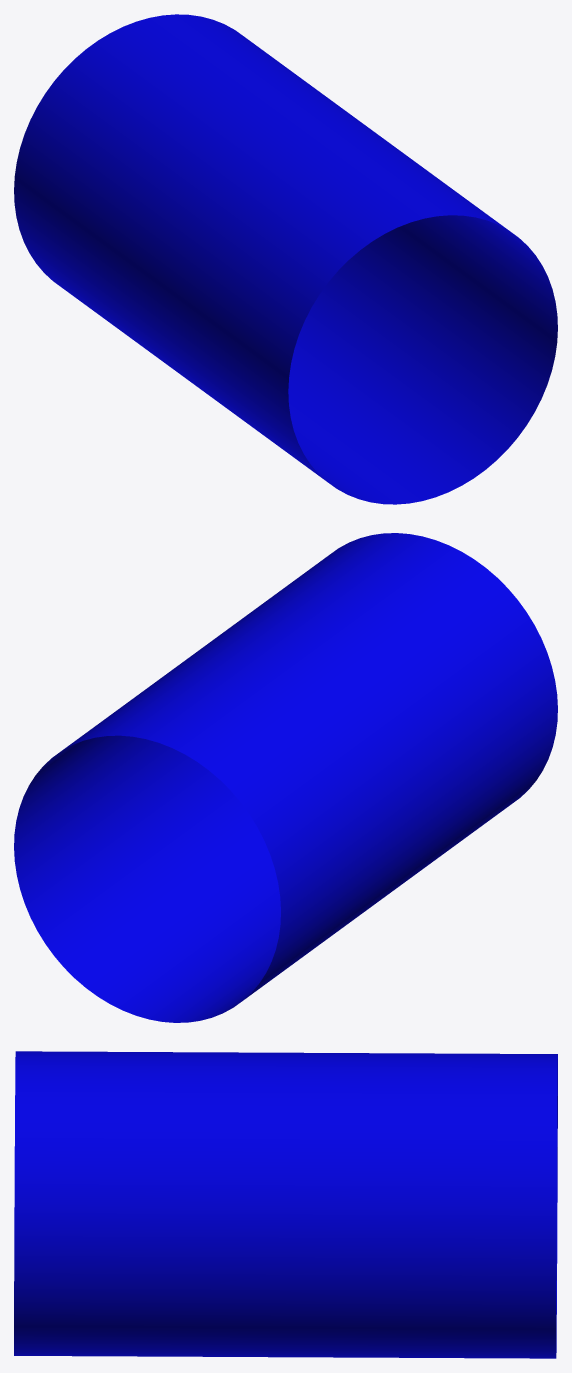
Rendered from CentroIzqHidro.fbx.
3 renders of one model, top to bottom at view 1: azimuth 30°, elevation 25°; view 2: azimuth 150°, elevation 25°; view 3: azimuth 270°, elevation 25°, orthographic.
Visible parts, largest first — view 1: Mesh.003; view 2: Mesh.003; view 3: Mesh.003.
Part boxes in pixels (x1=…): Mesh.003: x1=14, y1=14, x2=557, y2=504; Mesh.003: x1=14, y1=533, x2=557, y2=1022; Mesh.003: x1=14, y1=1051, x2=557, y2=1358.
Bounding box in the file's own units: 113 × 113 × 201.
